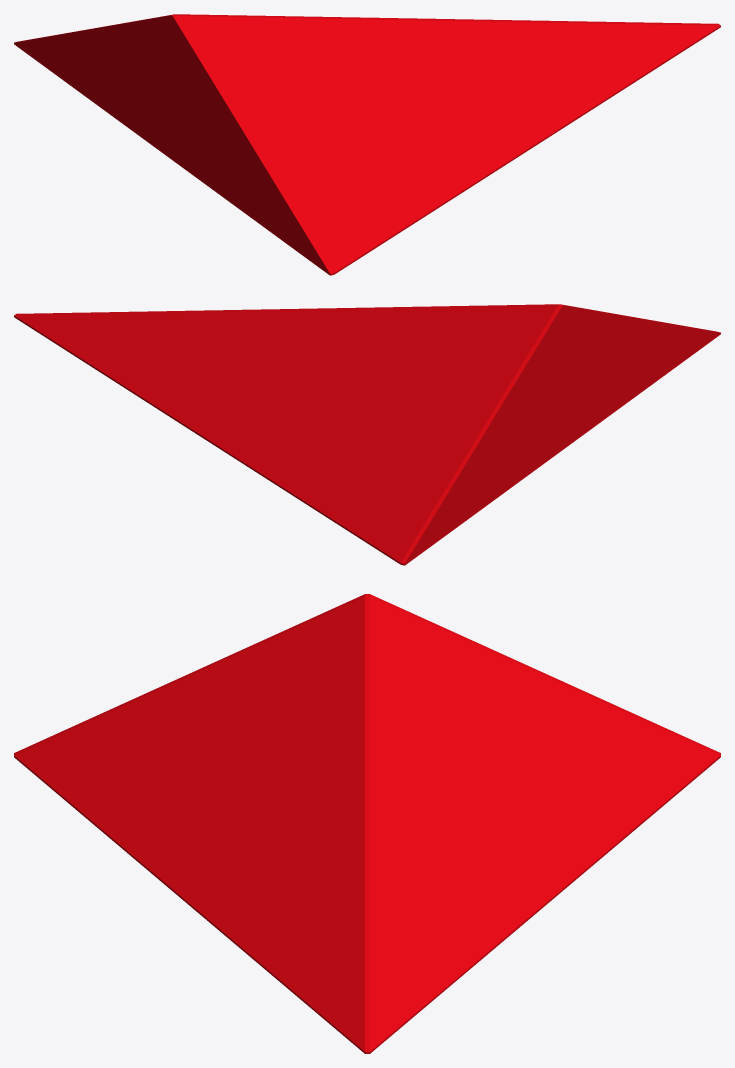
The model's file is navigationarrow.fbx.
3 views of the same model, one above another, from view 1: azimuth 30°, elevation 25°; view 2: azimuth 150°, elevation 25°; view 3: azimuth 270°, elevation 25° (orthographic). The views are drawn at different scales.
Parts seen in each view (by area): view 1: Cube; view 2: Cube; view 3: Cube.
Boxes of the visible parts, x1=… form: Cube: x1=14, y1=14, x2=720, y2=275; Cube: x1=14, y1=304, x2=720, y2=565; Cube: x1=14, y1=594, x2=720, y2=1053.
Bounding box in the file's own units: 100 × 25.11 × 100.
Materials: 1 (1 with a texture image).
